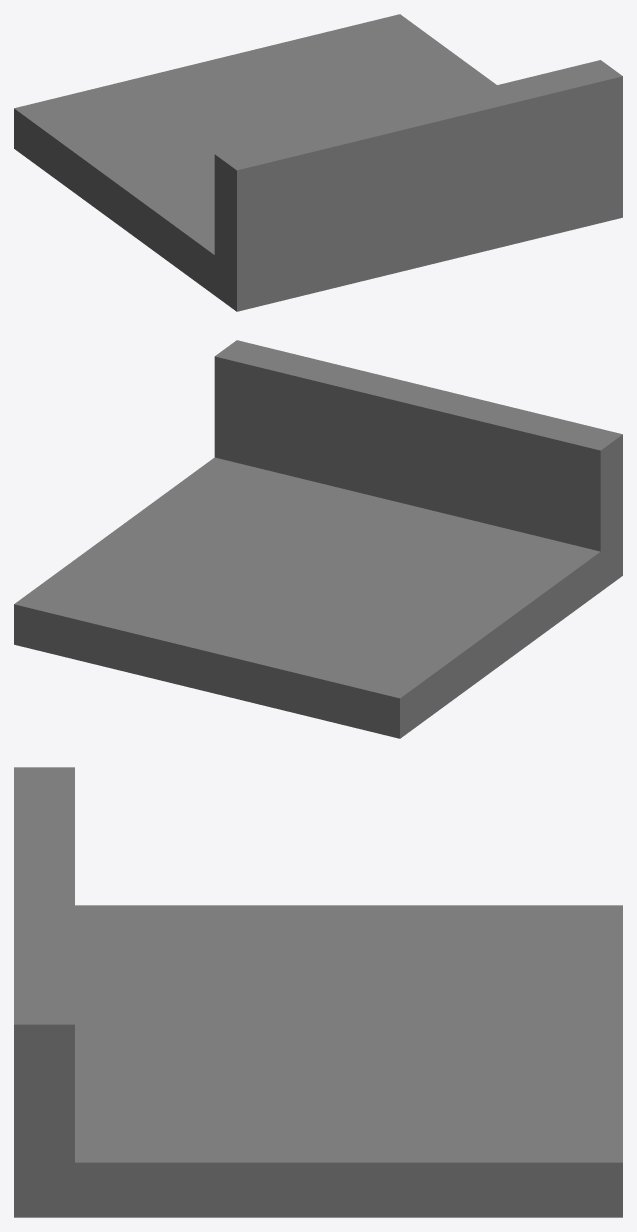
The model's file is GreyRoof_1Edge_Small.glb.
The picture shows the model from 3 angles, top to bottom: view 1: azimuth 30°, elevation 25°; view 2: azimuth 150°, elevation 25°; view 3: azimuth 270°, elevation 25°; orthographic projection. The views are drawn at different scales.
Visible parts, largest first — view 1: roof_flat_1Edges_small_grey; view 2: roof_flat_1Edges_small_grey; view 3: roof_flat_1Edges_small_grey.
Part boxes in pixels (x1,y1,x2,y2): roof_flat_1Edges_small_grey: (14,14,622,311); roof_flat_1Edges_small_grey: (14,340,622,738); roof_flat_1Edges_small_grey: (14,767,622,1217).
Size of what is drawn, in the model's own units: 2 by 0.7 by 2.
Materials: 1 (1 with a texture image).
